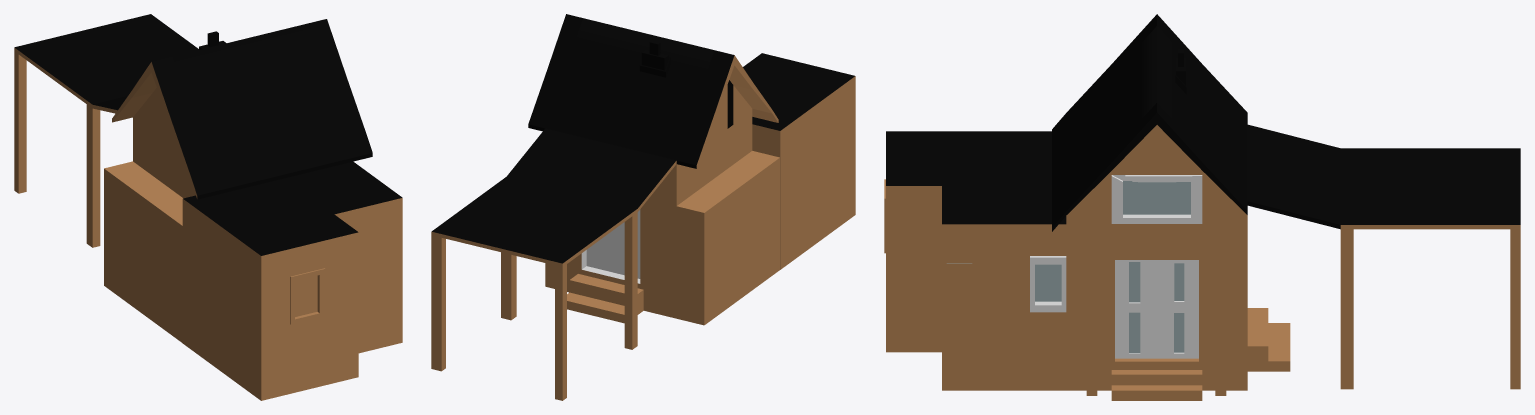
File: House.fbx
3 views of the same model, side by side, from view 1: azimuth 30°, elevation 25°; view 2: azimuth 150°, elevation 25°; view 3: azimuth 270°, elevation 25° (orthographic). The views are drawn at different scales.
Parts seen in each view (by area): view 1: pCube1; view 2: pCube1; view 3: pCube1.
Part boxes in pixels (x1,y1,x2,y2): pCube1: (14,14,402,400); pCube1: (431,14,855,400); pCube1: (884,14,1520,400).
Bounding box in the file's own units: 1.35 × 1.78 × 3.51.
